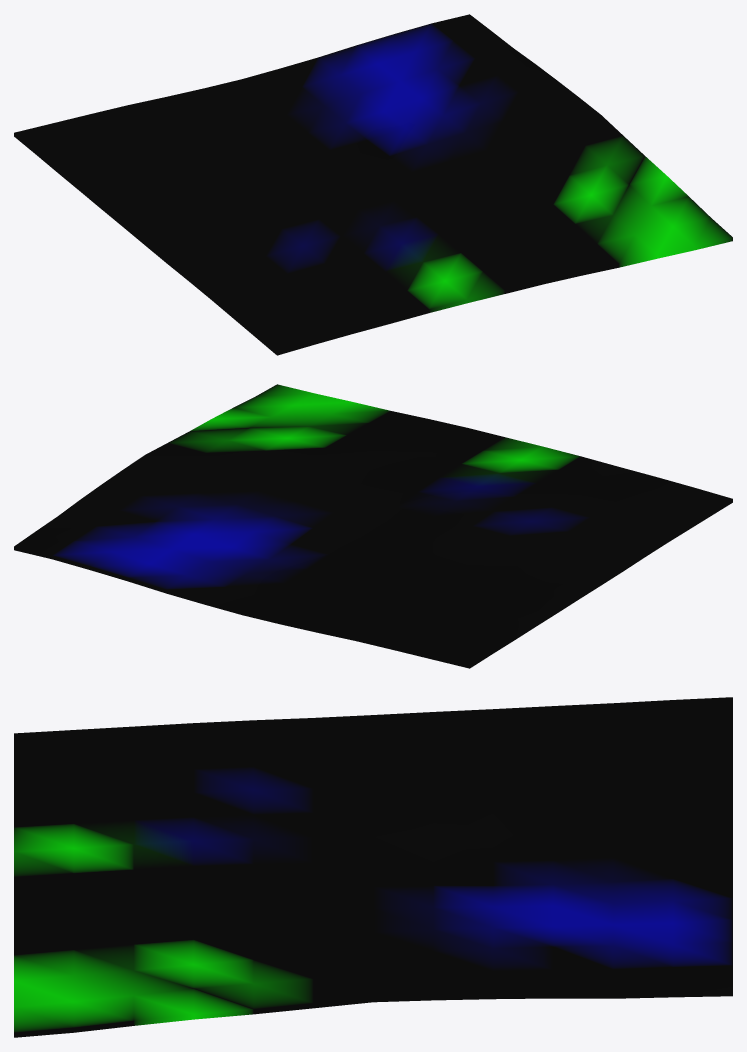
Rendered from coast_22_4.glb.
The picture shows the model from 3 angles, top to bottom: view 1: azimuth 30°, elevation 25°; view 2: azimuth 150°, elevation 25°; view 3: azimuth 270°, elevation 25°; orthographic projection. The views are drawn at different scales.
Parts seen in each view (by area): view 1: terrain; view 2: terrain; view 3: terrain.
Part boxes in pixels (x1,y1,x2,y2): terrain: (14,14,732,355); terrain: (14,384,732,668); terrain: (14,697,732,1037).
Bounding box in the file's own units: 192 × 15.17 × 192.
